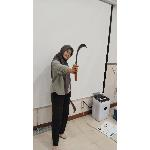Celurit: (73, 40, 91, 82)
Golok: (68, 98, 82, 114)
